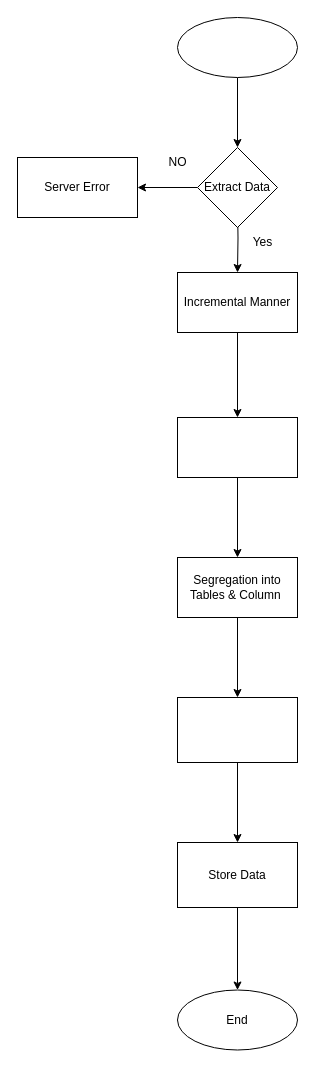
Some shapes in this 315 by 1068 pixel diagram are drawn without their labels. The shapes that lost their labels are listed below. From the top down, each one's centre as x and y in pixels, then its label:
At pixel 237 47: "Start".
At pixel 237 447: "Understand Data".
At pixel 237 729: "Establishing Connection with DB".
